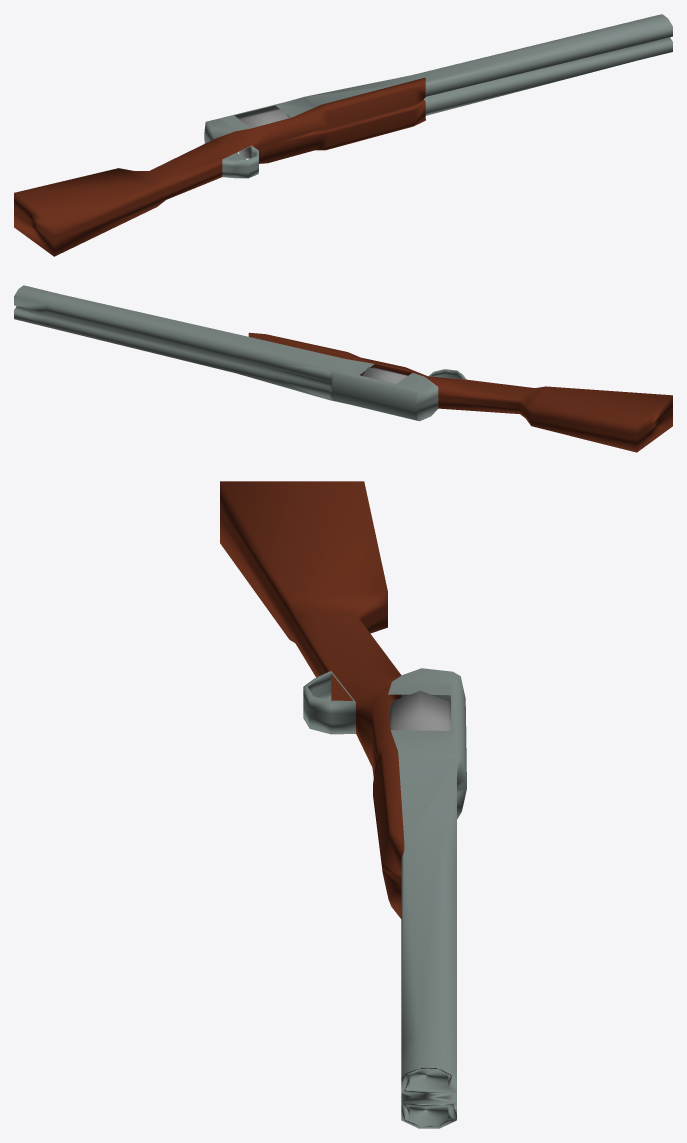
File: LUCKOFTHEGU.fbx
3 views of the same model, one above another, from view 1: azimuth 30°, elevation 25°; view 2: azimuth 150°, elevation 25°; view 3: azimuth 270°, elevation 25° (orthographic). The views are drawn at different scales.
Visible parts, largest first — view 1: Cube, Cylinder; view 2: Cube, Cylinder; view 3: Cube, Cylinder.
Part boxes in pixels (x1,y1,x2,y2): Cube: (14,14,672,256); Cylinder: (238,109,288,158); Cube: (14,285,672,452); Cylinder: (362,367,407,383); Cube: (220,481,466,1128); Cylinder: (389,690,450,730).
Bounding box in the file's own units: 384 × 23.29 × 68.47.
